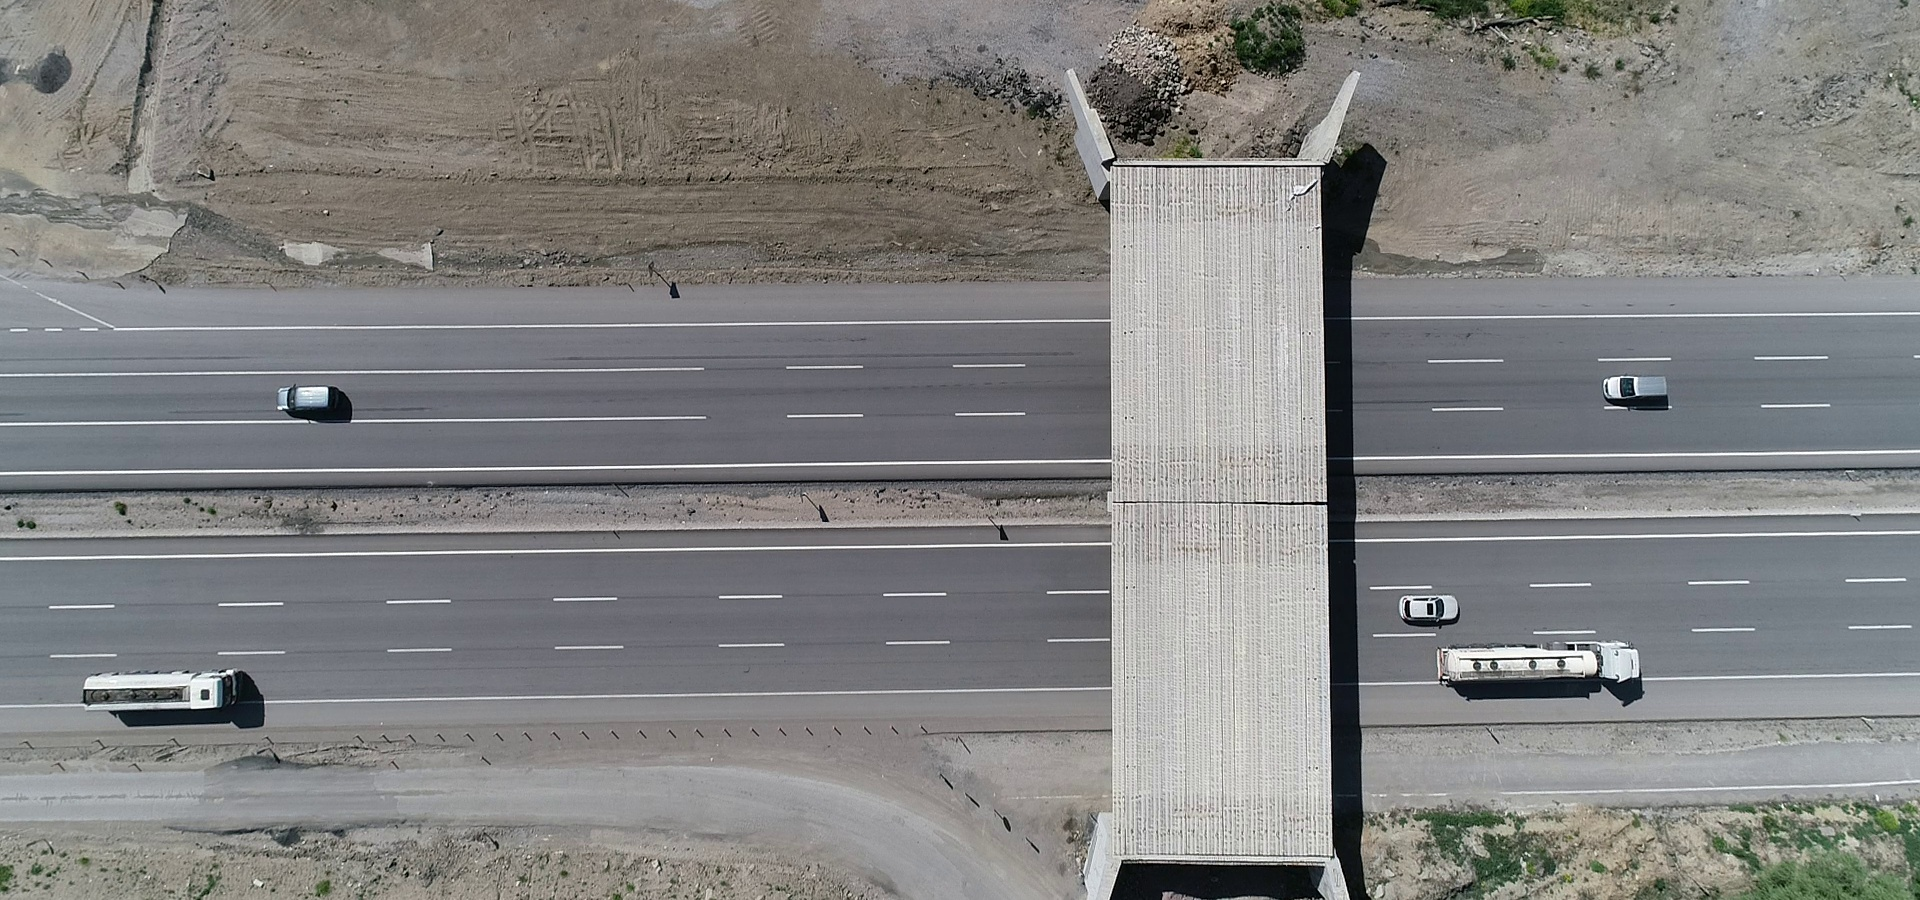arac: (1428, 637, 1653, 691), (71, 660, 242, 713), (1398, 585, 1473, 636), (271, 373, 337, 421), (1600, 372, 1676, 411)
